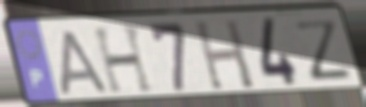4: (257, 15, 300, 90)
7: (146, 21, 190, 96)
A: (59, 28, 112, 97)
H: (90, 23, 158, 96), (192, 18, 258, 93)
Z: (291, 17, 354, 82)
